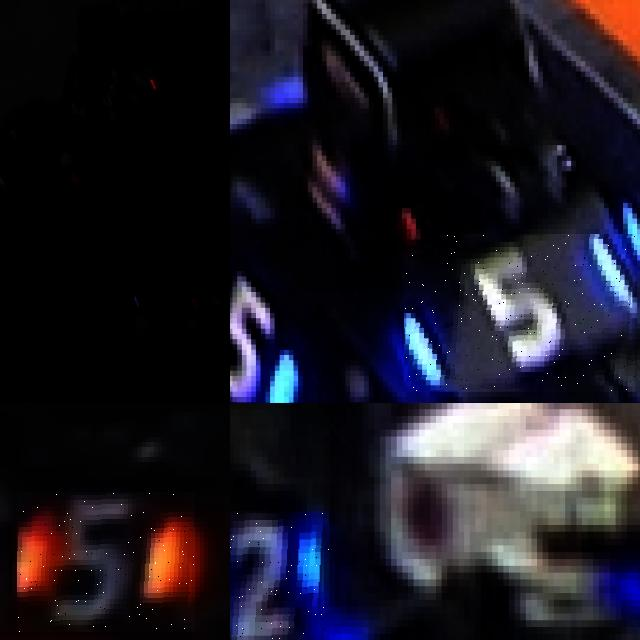B2: (230, 511, 329, 640)
B5: (404, 234, 635, 392), (230, 244, 314, 403)
R5: (17, 492, 195, 632)
